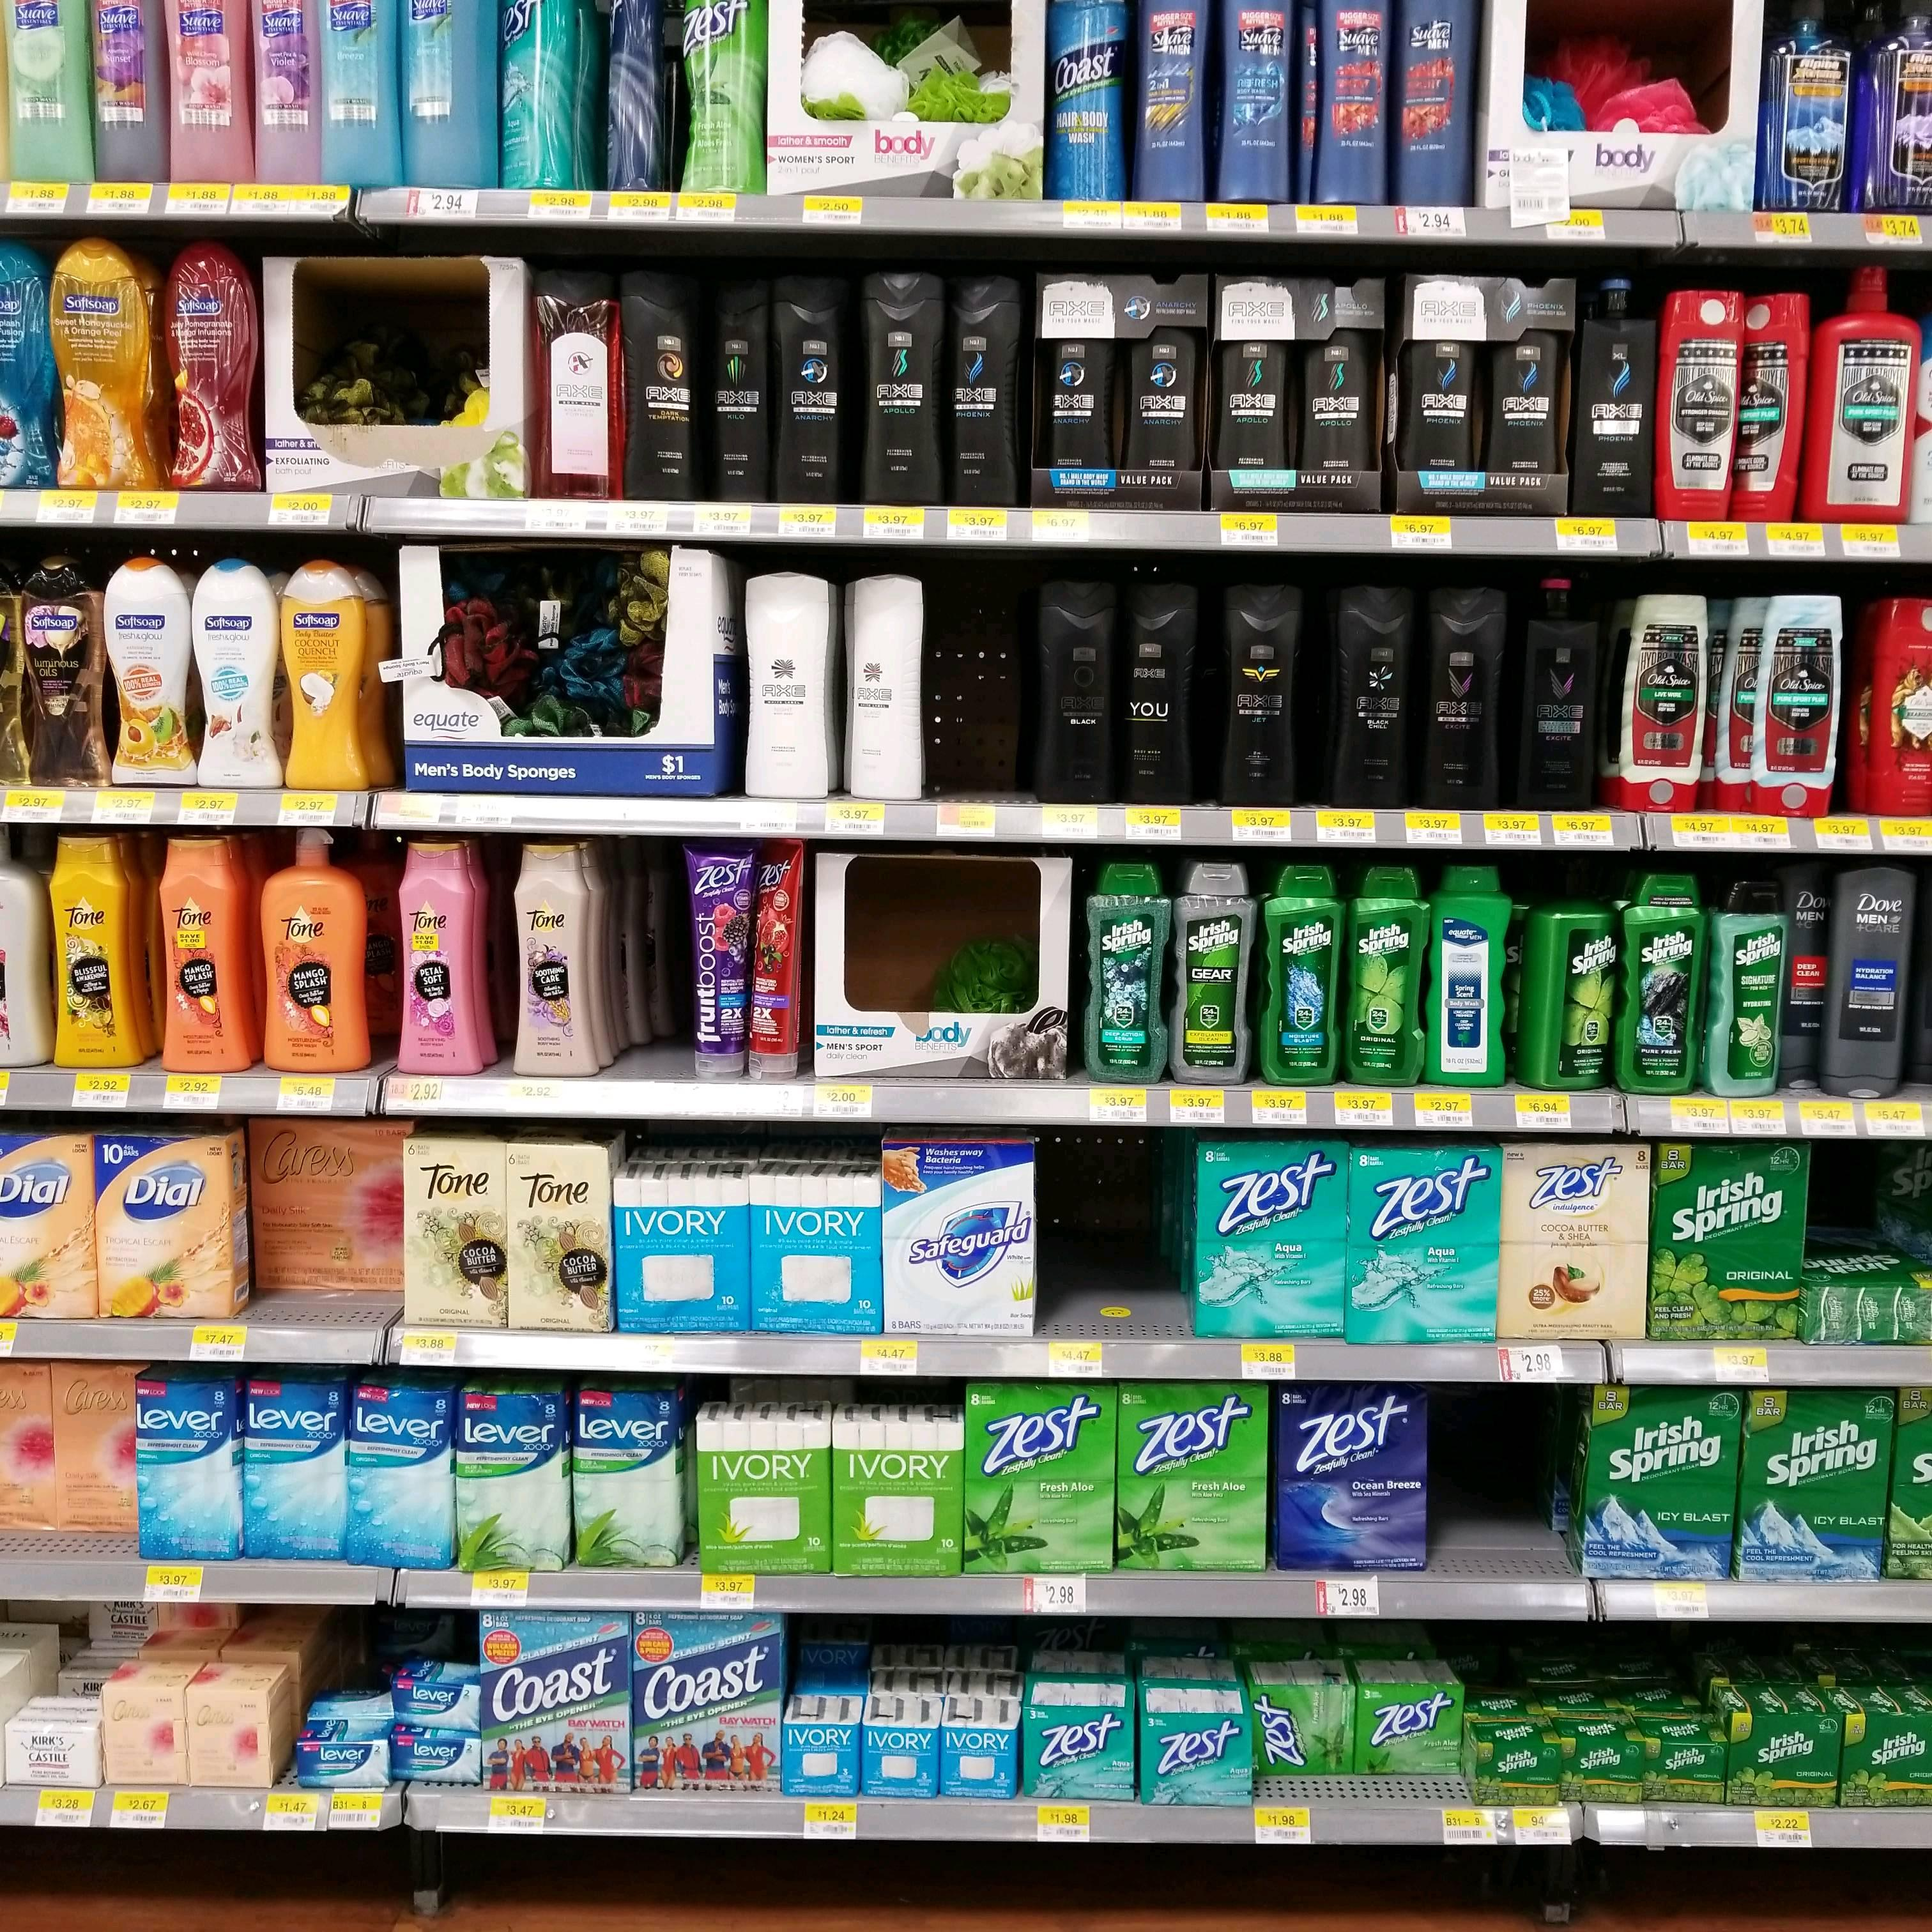empty: (242, 1178, 400, 1336), (924, 598, 1030, 807), (1044, 1178, 1180, 1336), (1426, 1417, 1562, 1573), (619, 847, 694, 1072), (1819, 1146, 1916, 1265), (295, 1599, 393, 1716)
